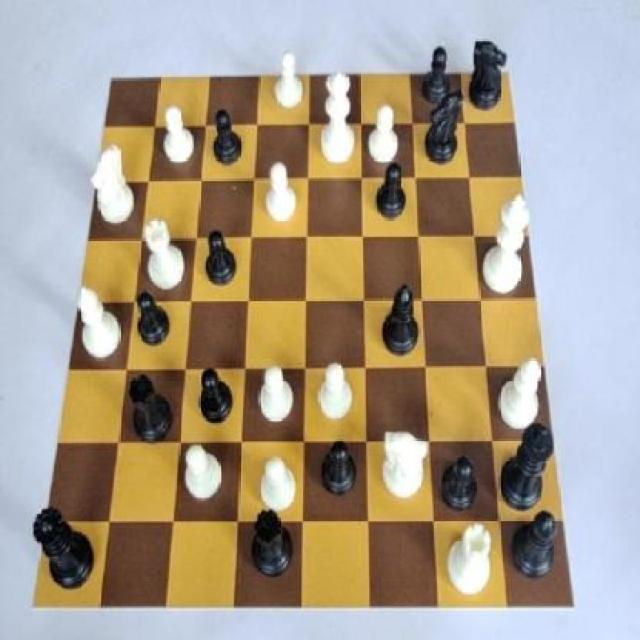bishop: (505, 509, 562, 600), (374, 283, 424, 365)
black-bishop: (494, 416, 560, 518)
black-king: (422, 89, 471, 176), (468, 31, 510, 120)
black-knight: (206, 108, 252, 177), (314, 432, 358, 504), (195, 365, 241, 430), (134, 286, 178, 349), (437, 451, 481, 512), (417, 42, 456, 110), (200, 228, 238, 295), (375, 160, 411, 228)
black-pawn: (30, 508, 99, 595)
black-queen: (124, 368, 180, 448), (245, 500, 296, 582)
black-rook: (71, 283, 126, 372), (494, 350, 546, 432)
white-bishop: (477, 188, 533, 292)
white-king: (86, 146, 139, 231), (378, 425, 428, 509)
white-knight: (312, 354, 360, 434), (254, 443, 300, 520), (181, 436, 227, 506), (362, 99, 406, 172), (158, 103, 198, 172), (258, 159, 301, 223), (256, 362, 294, 433), (271, 48, 307, 113)
white-pawn: (314, 61, 358, 176)
white-queen: (445, 514, 497, 598), (140, 210, 189, 294)
